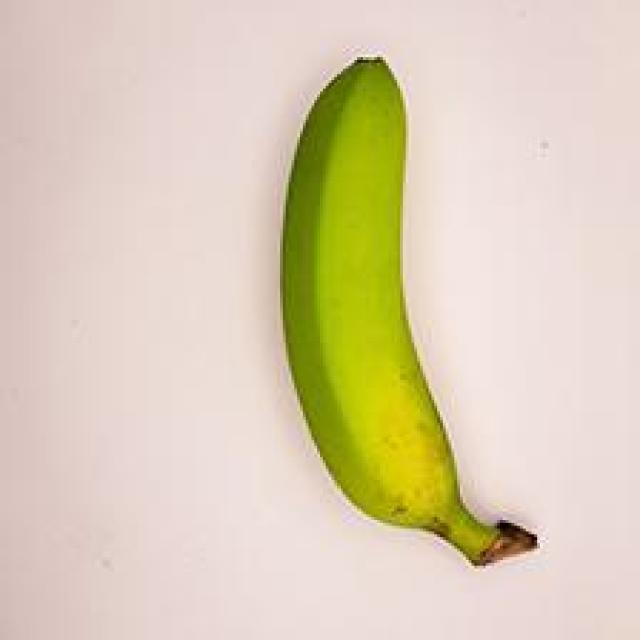Unripe: (240, 21, 554, 581)
